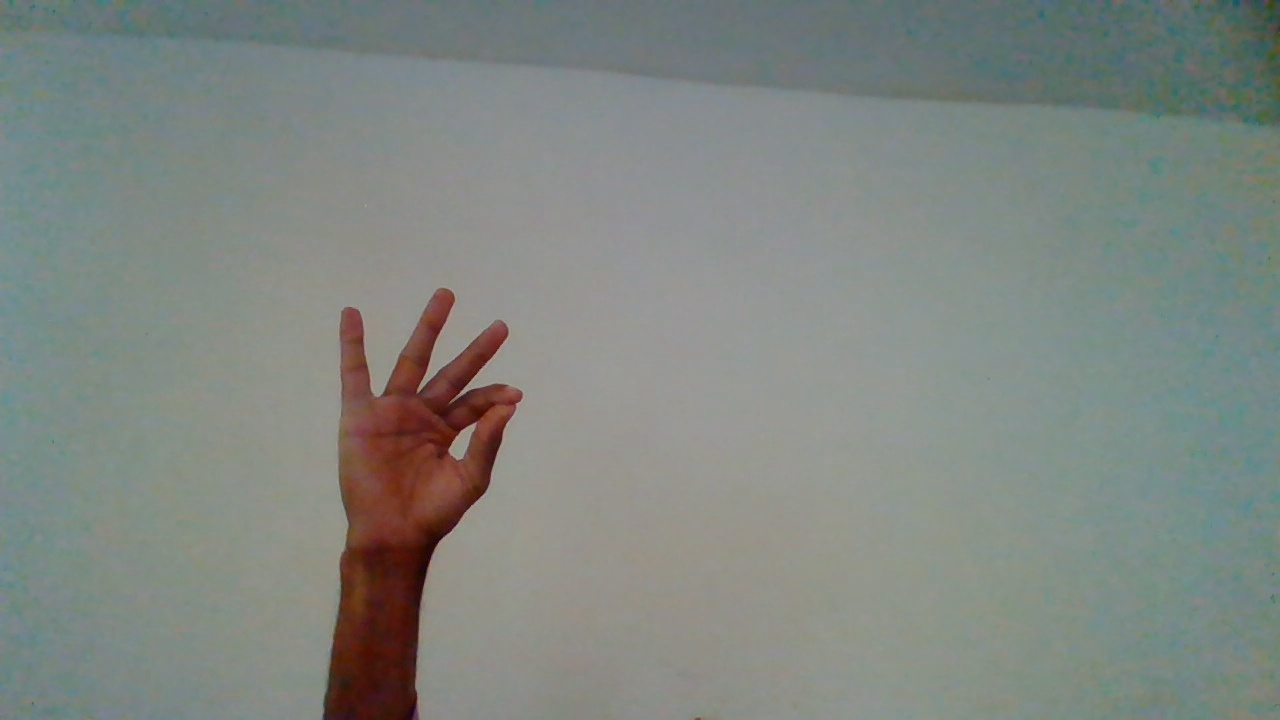le: (332, 289, 523, 663)
